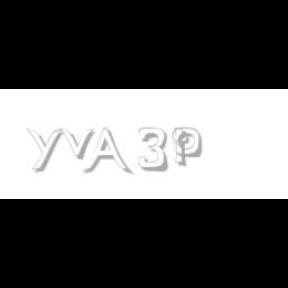3: (138, 128, 170, 172)
A: (82, 128, 130, 176)
o: (172, 128, 202, 158)
t: (172, 128, 194, 168)
v: (59, 128, 99, 160)
y: (27, 128, 67, 172)
